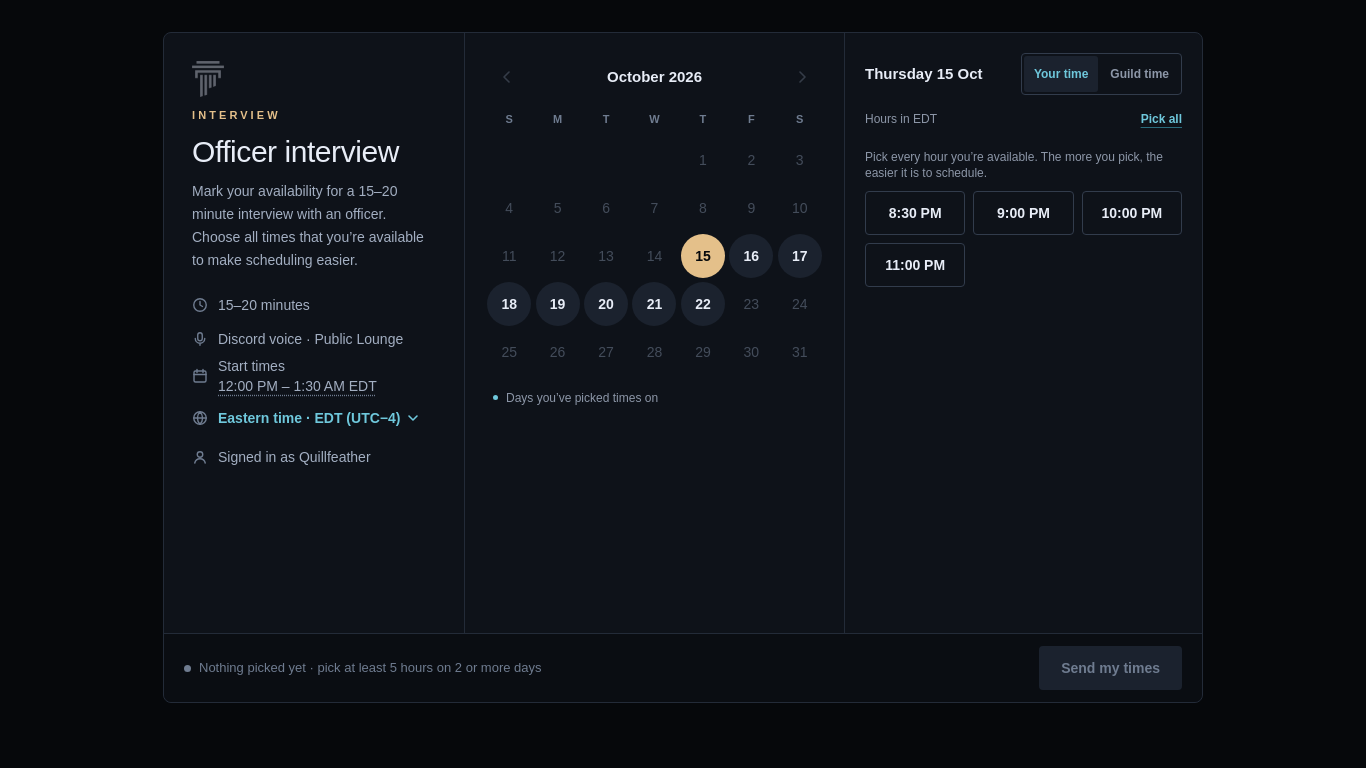
Test: sending times › shows where the interview stands, with the notice, when it changed while the page was open
The image size is (1366, 768).
What coordinates should you click on to do the following:
click the button "Pick all"
I would click on:
 (1161, 119)
Its box is [1141, 97, 1182, 141].
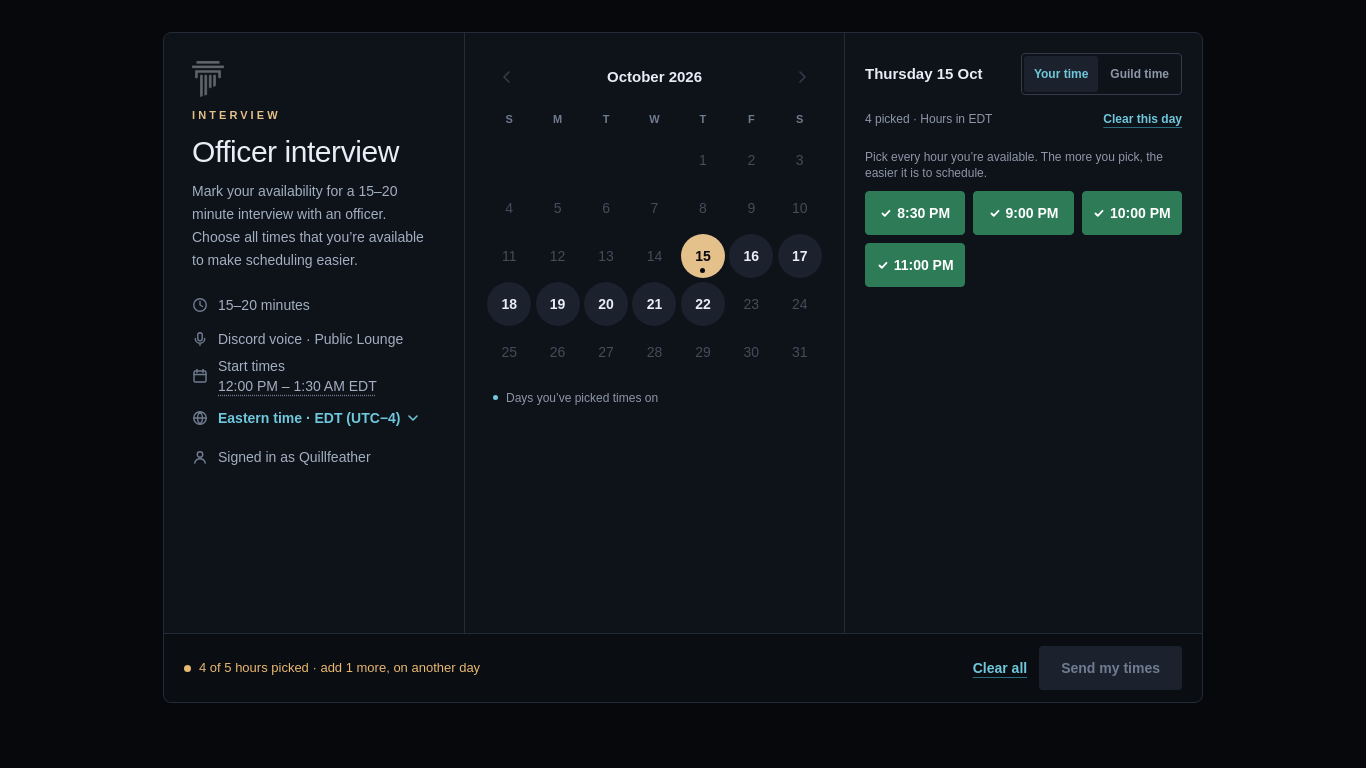
What coordinates should you click on to do the following:
click the button "17"
I would click on:
 (800, 256)
Its box is [778, 234, 822, 278].
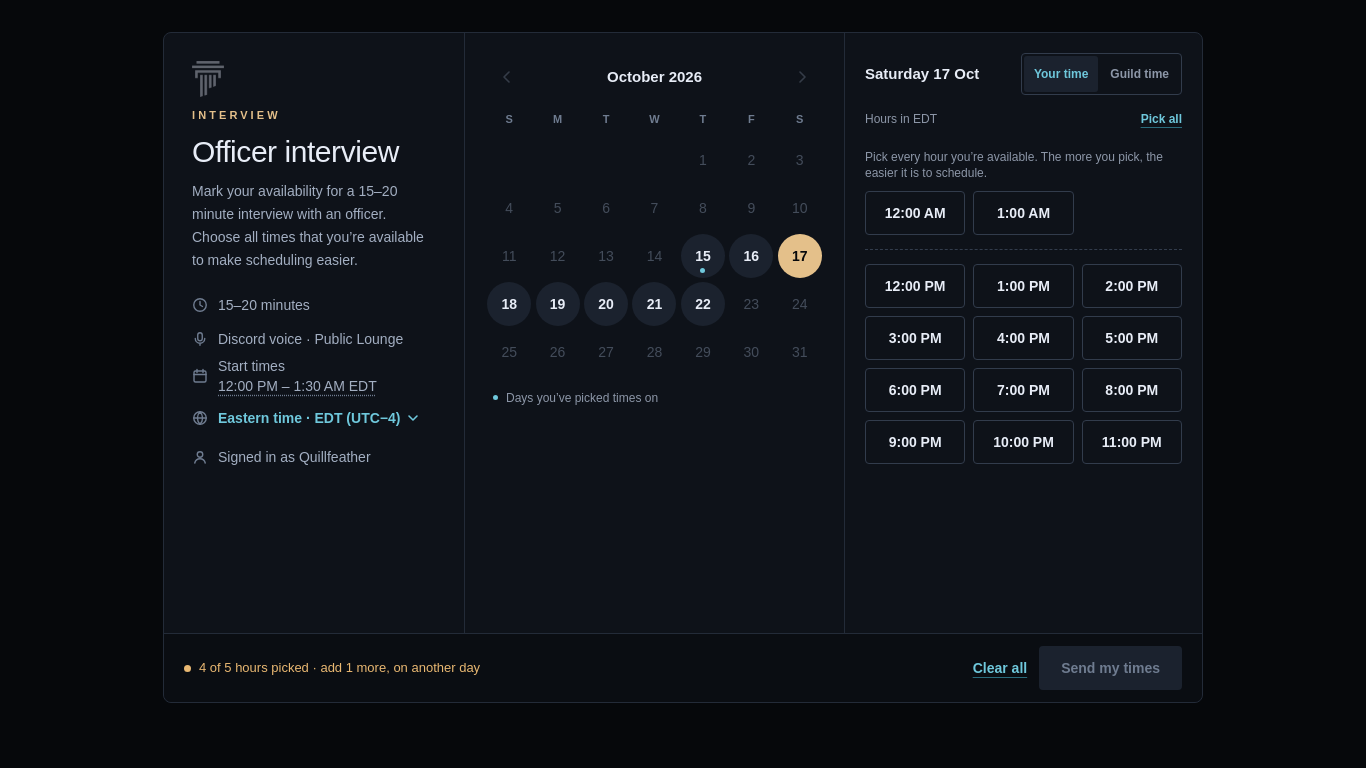
What coordinates should you click on to do the following:
click the button "12:00 AM"
I would click on:
 (915, 213)
Its box is [865, 191, 965, 235].
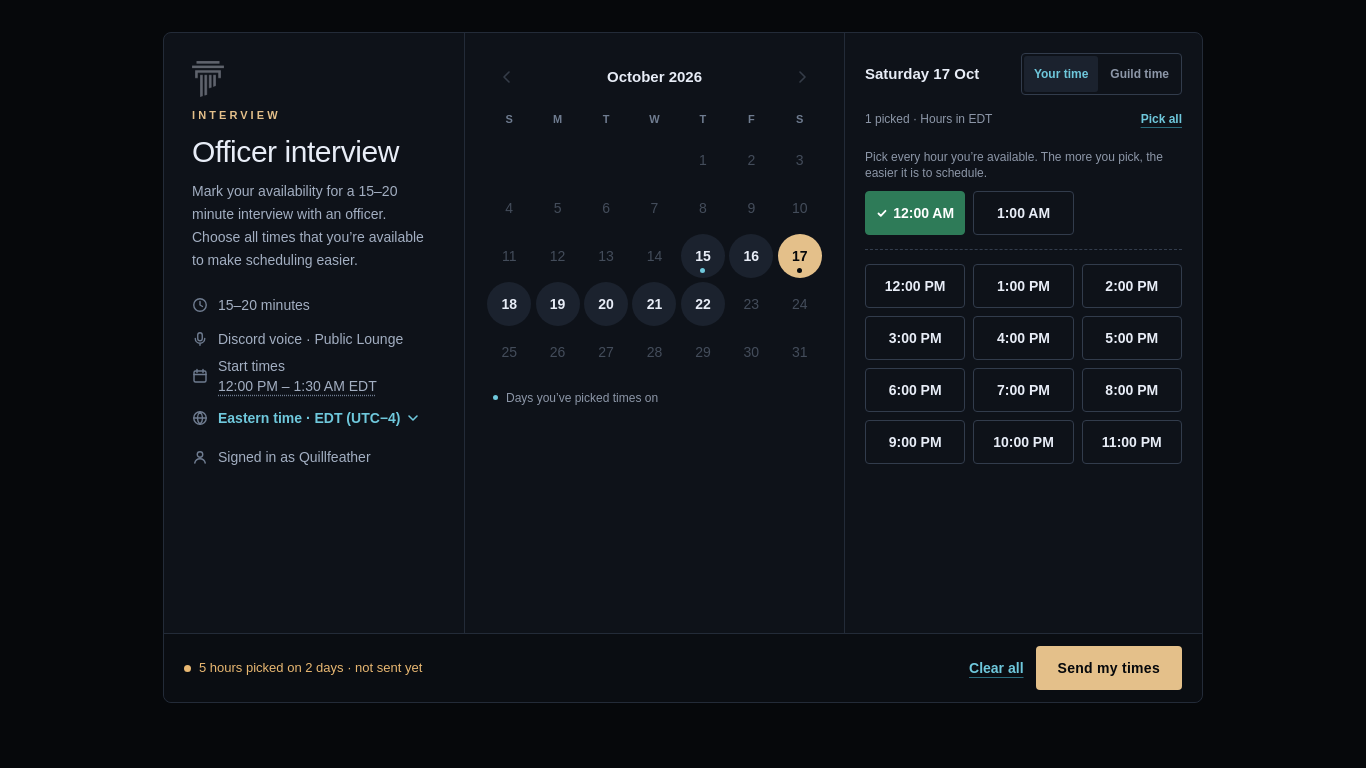
What coordinates should you click on to do the following:
click the button "Send my times"
I would click on:
 (1109, 668)
Its box is [1036, 646, 1182, 690].
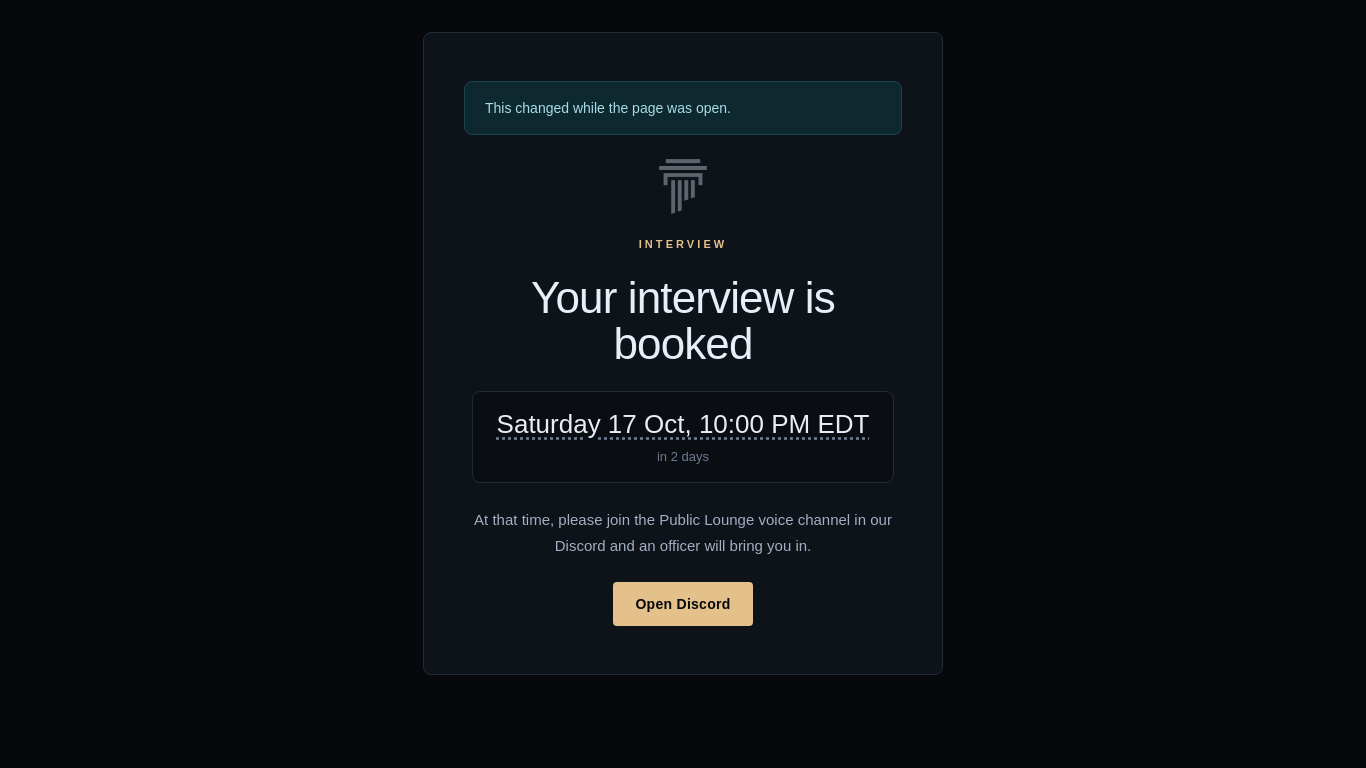
Result: the message "This changed while the page was open." is shown at [464, 81, 902, 135]
Result: the heading "Your interview is booked" is shown at [531, 273, 835, 368]
